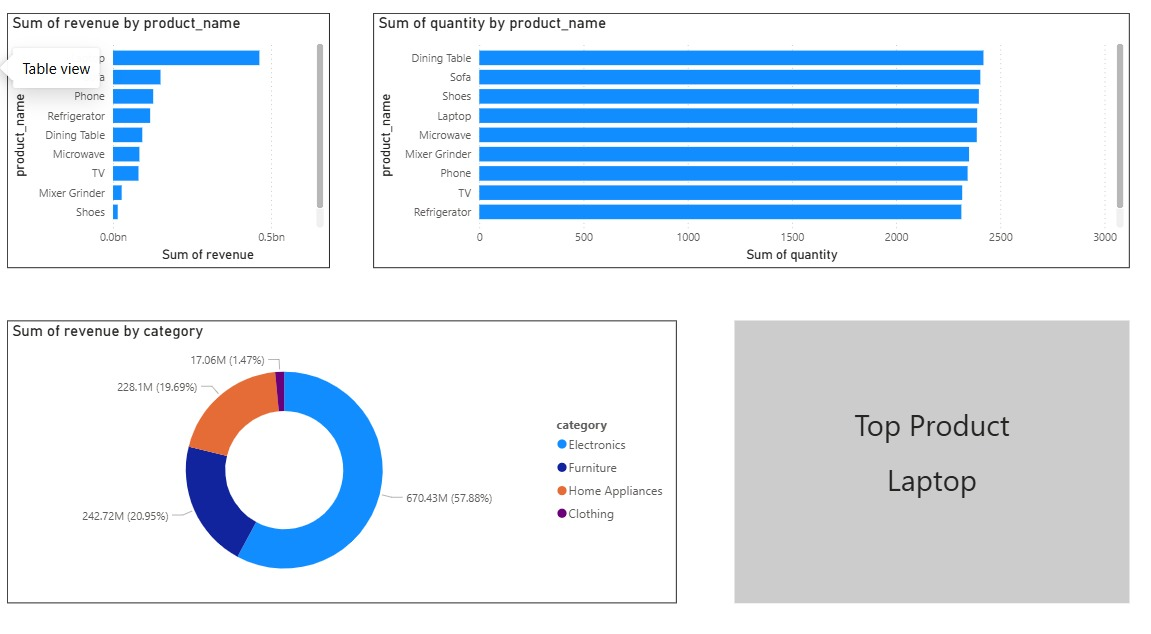

What the dashboard file says about the page in this screenshot:
{"tool":"powerbi","page":{"name":"Product Performance","canvas":[1280,720],"ordinal":1},"visuals":[{"type":"clusteredBarChart","fields":{"Category":["cleaned_retail_data_v2.product_name"],"Y":["Sum(cleaned_retail_data_v2.revenue)"]},"box":[11,22,354,279.9],"z":0},{"type":"clusteredBarChart","fields":{"Category":["cleaned_retail_data_v2.product_name"],"Y":["Sum(cleaned_retail_data_v2.quantity)"]},"box":[413,22,830.2,279.9],"z":1000},{"type":"donutChart","fields":{"Category":["cleaned_retail_data_v2.category"],"Y":["Sum(cleaned_retail_data_v2.revenue)"]},"box":[11,359.5,735.5,310.1],"z":2000},{"type":"textbox","box":[809.6,359.5,433.6,310.1],"z":2001}]}

Visuals, with their boxes in screenshot pixels (x1, y1, x2, y2), scaled from the page's 1280x720 canvas onto the 1151x634 screenshot:
clusteredBarChart - cleaned_retail_data_v2.product_name x Sum(cleaned_retail_data_v2.revenue): (10, 19, 328, 266)
clusteredBarChart - cleaned_retail_data_v2.product_name x Sum(cleaned_retail_data_v2.quantity): (371, 19, 1118, 266)
donutChart - cleaned_retail_data_v2.category x Sum(cleaned_retail_data_v2.revenue): (10, 317, 671, 590)
textbox: (728, 317, 1118, 590)
